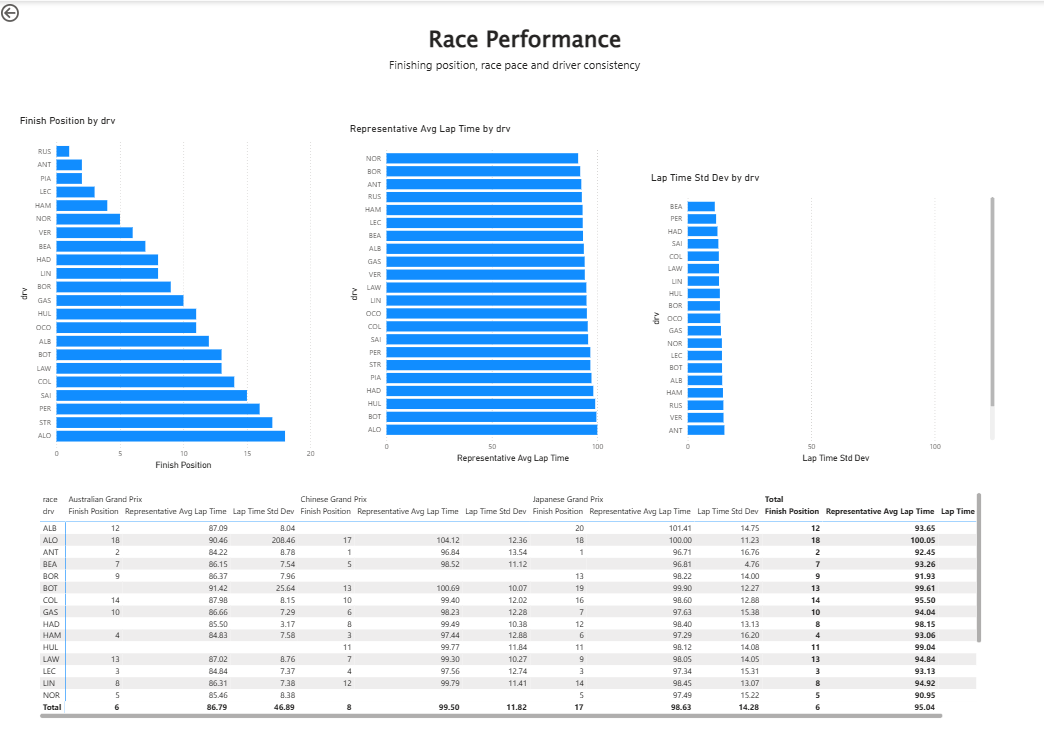

What the dashboard file says about the page in this screenshot:
{"tool":"powerbi","page":{"name":"Race Performance","canvas":[1800,1250],"ordinal":2},"visuals":[{"type":"clusteredBarChart","fields":{"Category":["f1_2026_three_races.drv"],"Y":["f1_2026_three_races.Finish Position"]},"box":[31.4,190.6,504.3,599.6],"z":0},{"type":"clusteredBarChart","fields":{"Category":["f1_2026_three_races.drv"],"Y":["f1_2026_three_races.Representative Avg Lap Time"]},"box":[584.4,203.2,505.5,575.5],"z":2},{"type":"clusteredBarChart","fields":{"Category":["f1_2026_three_races.drv"],"Y":["f1_2026_three_races.Lap Time Std Dev"]},"box":[1089.1,284.9,586.3,493.9],"z":3},{"type":"pivotTable","fields":{"Rows":["f1_2026_three_races.drv"],"Columns":["f1_2026_three_races.race"],"Values":["f1_2026_three_races.Finish Position","f1_2026_three_races.Representative Avg Lap Time","f1_2026_three_races.Lap Time Std Dev"]},"box":[64.9,819,1588.2,388.2],"z":4},{"type":"actionButton","box":[0,0,100,40],"z":5},{"type":"textbox","box":[31.4,31.4,1677.7,148.7],"z":6}]}

Visuals, with their boxes on the page's 1800x1250 design canvas (x1, y1, x2, y2). These are canvas units, not pixel positions in the 1044x734 screenshot, which may show the page scaled, cropped or inside an application window:
clusteredBarChart - f1_2026_three_races.drv x f1_2026_three_races.Finish Position: detection(31, 191, 536, 790)
clusteredBarChart - f1_2026_three_races.drv x f1_2026_three_races.Representative Avg Lap Time: detection(584, 203, 1090, 779)
clusteredBarChart - f1_2026_three_races.drv x f1_2026_three_races.Lap Time Std Dev: detection(1089, 285, 1675, 779)
pivotTable - f1_2026_three_races.drv x f1_2026_three_races.race: detection(65, 819, 1653, 1207)
actionButton: detection(0, 0, 100, 40)
textbox: detection(31, 31, 1709, 180)
